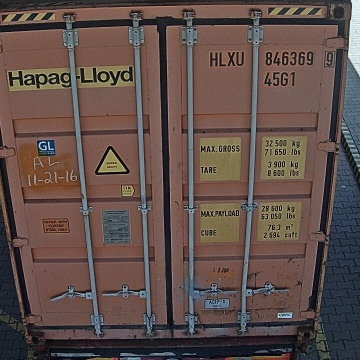serial_id: (210, 51, 334, 66)
